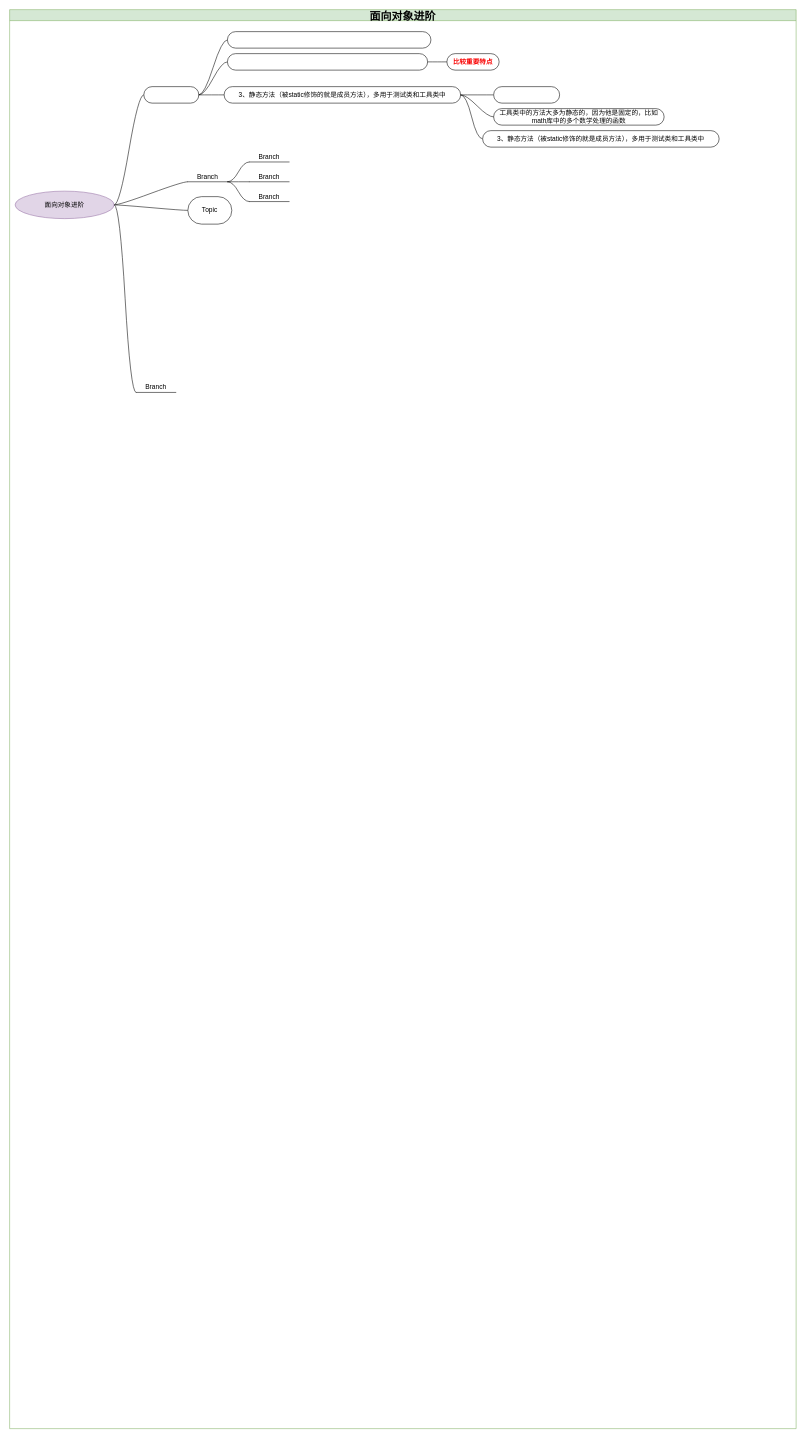
Some shapes in this 806 by 1438 pixel diagram are drawn without their labels. The shapes that lost their labels are listed below. From the top down, each one's centre as x and y in pixels, then its label:
At pixel 329 39: "1、定义：java中的一个修饰符，可以修饰成员方法、成员变量".
At pixel 327 61: "2、静态变量（被static修饰的就是成员变量）".
At pixel 171 94: "static静态".
At pixel 526 94: "通过类名调用".
